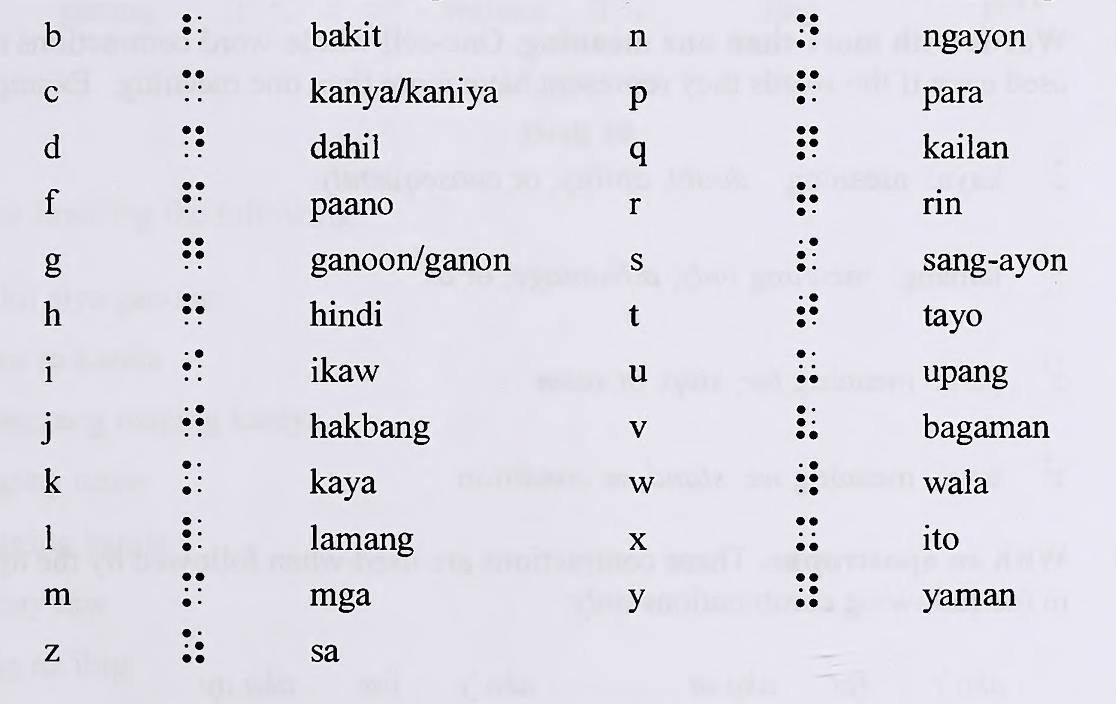one_cell_alphabet_bagaman: (795, 403, 819, 441)
one_cell_alphabet_bakit: (180, 12, 206, 47)
one_cell_alphabet_dahil: (181, 124, 206, 160)
one_cell_alphabet_ganoon: (179, 236, 207, 274)
one_cell_alphabet_hakbang: (180, 404, 206, 439)
one_cell_alphabet_hindi: (180, 291, 206, 327)
one_cell_alphabet_ikaw: (181, 347, 206, 384)
one_cell_alphabet_ito: (794, 516, 820, 553)
one_cell_alphabet_kailan: (795, 125, 820, 163)
one_cell_alphabet_kaniya: (180, 67, 206, 105)
one_cell_alphabet_kaya: (182, 459, 205, 495)
one_cell_alphabet_lamang: (181, 515, 204, 553)
one_cell_alphabet_mga: (181, 572, 206, 609)
one_cell_alphabet_ngayon: (795, 11, 820, 52)
one_cell_alphabet_paano: (179, 180, 207, 216)
one_cell_alphabet_para: (795, 67, 821, 106)
one_cell_alphabet_rin: (795, 181, 820, 218)
one_cell_alphabet_sa: (179, 627, 206, 666)
one_cell_alphabet_sang-ayon: (795, 235, 819, 275)
one_cell_alphabet_tayo: (796, 292, 819, 329)
one_cell_alphabet_upang: (795, 348, 819, 383)
one_cell_alphabet_wala: (795, 461, 821, 497)
one_cell_alphabet_yaman: (796, 572, 819, 609)
